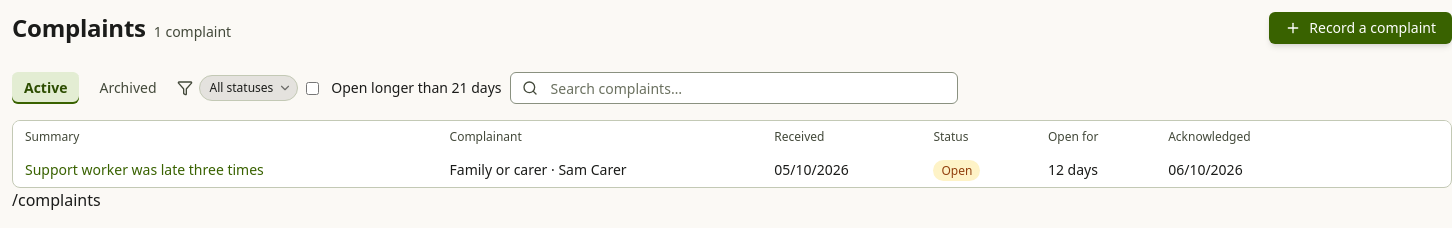
ComplaintsPage › writes open=over21 to the URL and sends longOpen=true when the checkbox is ticked
Click the checkbox labelled "Open longer than 21 days": (313, 88) [306,82,319,94]
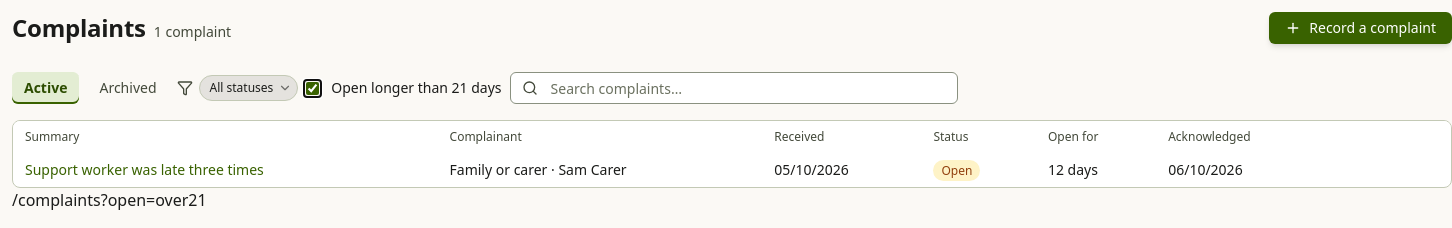
Check: the text with test id "where" shows "open=over21", box [101,189,207,211]
